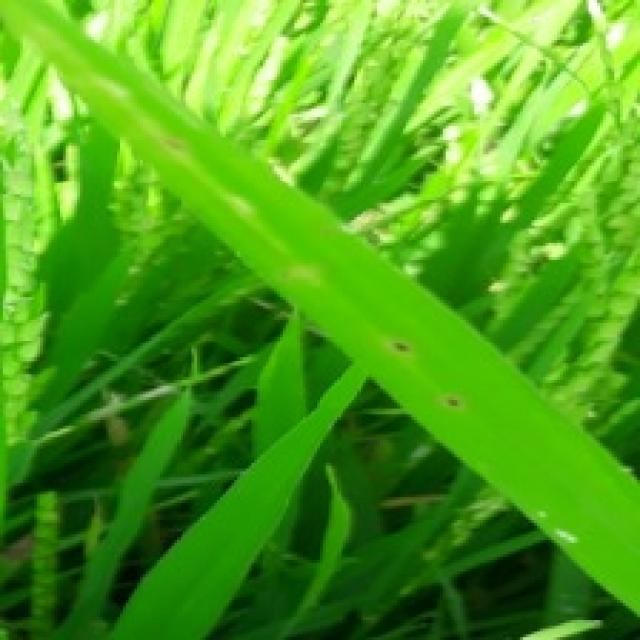Unhealthy: (281, 260, 329, 296), (384, 335, 416, 361), (441, 392, 463, 412), (163, 134, 181, 154)
